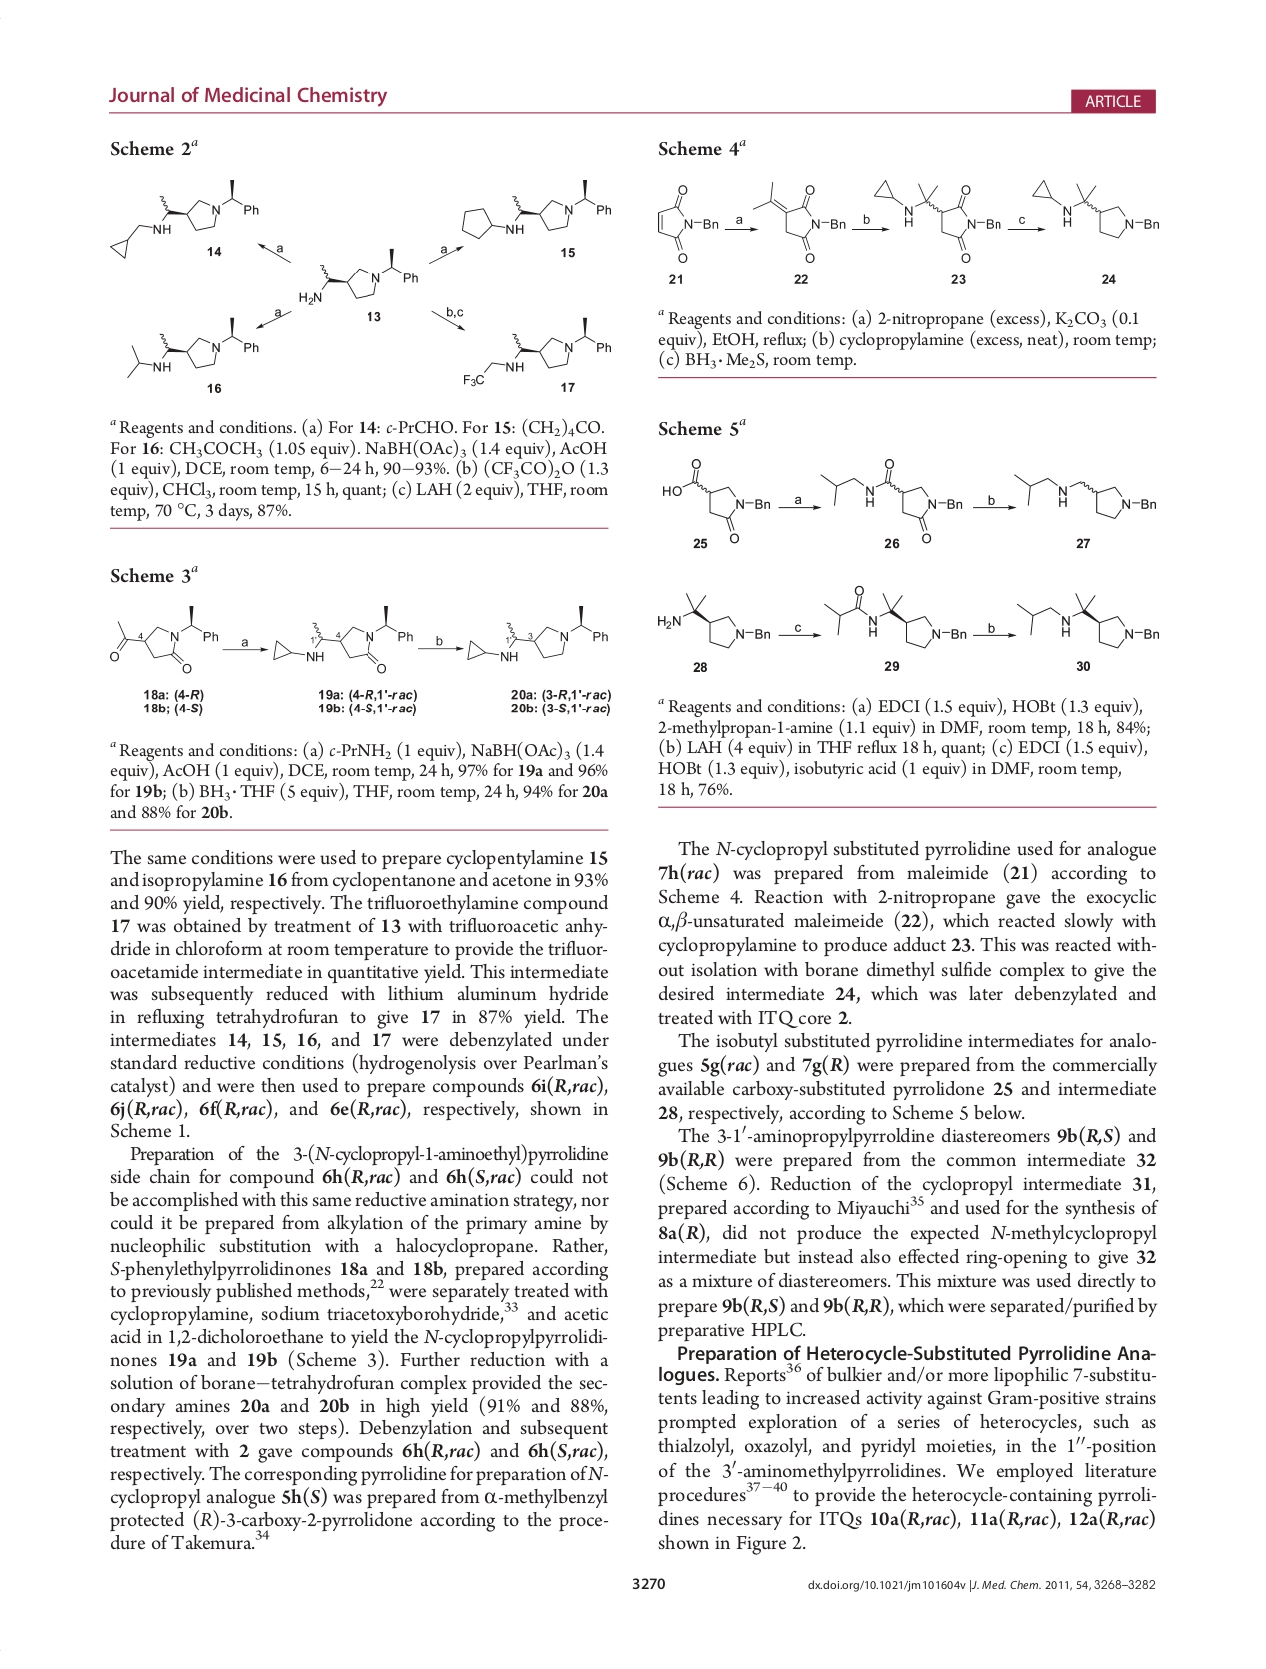exist_molecular: (105, 176, 261, 261), (821, 457, 965, 545), (871, 176, 1001, 266), (461, 314, 614, 390), (269, 604, 418, 680), (822, 582, 969, 652), (459, 177, 614, 242), (660, 457, 773, 547), (1015, 590, 1161, 654), (465, 602, 610, 666), (122, 315, 261, 380), (749, 178, 848, 266), (1031, 177, 1161, 242), (106, 602, 221, 676), (1009, 467, 1158, 523), (652, 590, 773, 653), (298, 246, 422, 306), (656, 182, 719, 266)
